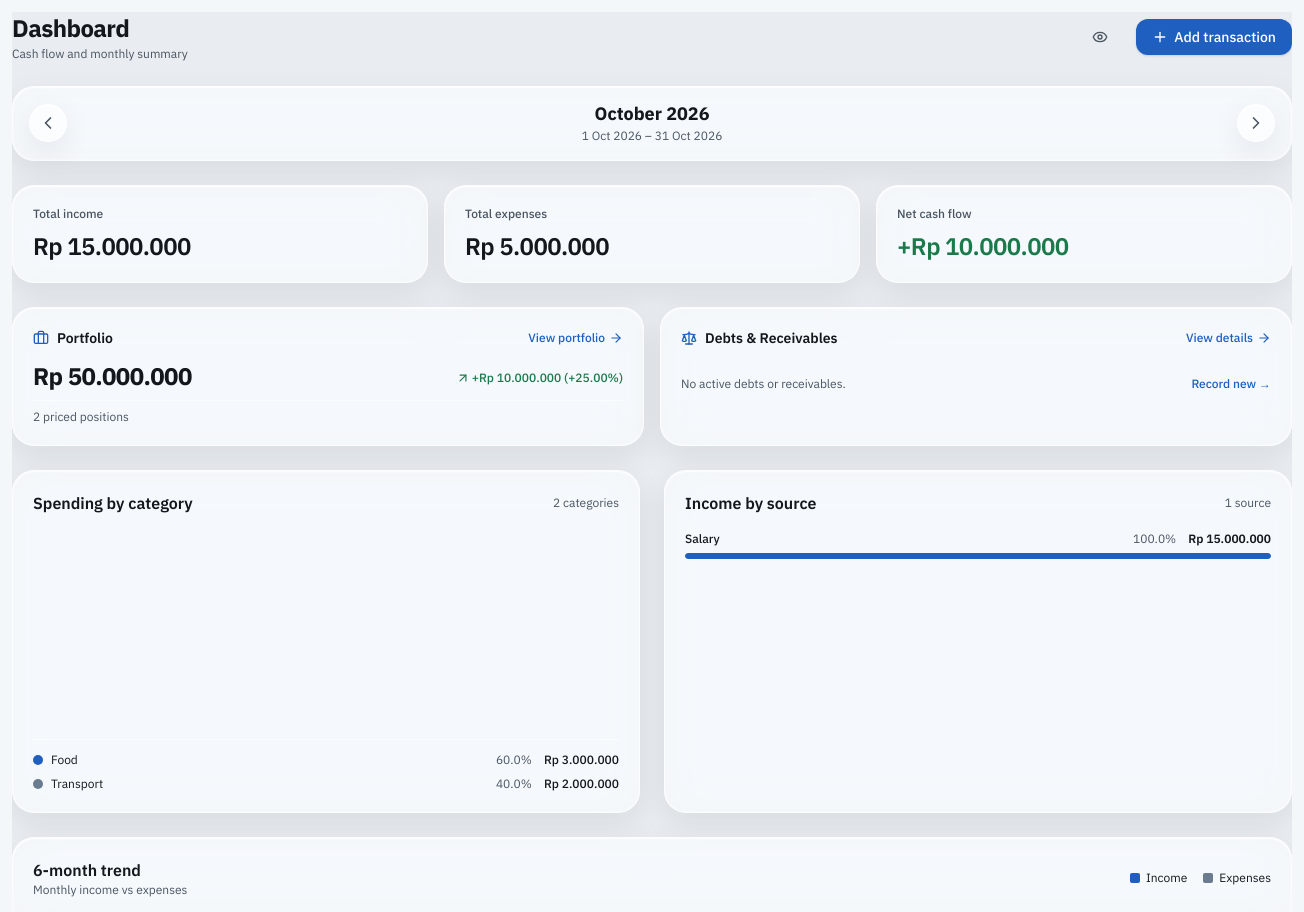
Test: DashboardView › toggles privacy mode and masks financial numbers
What coordinates should you click on to do the following:
click the button named "Hide balances"
I would click on:
 (1100, 37)
Its box is [1076, 21, 1124, 53].
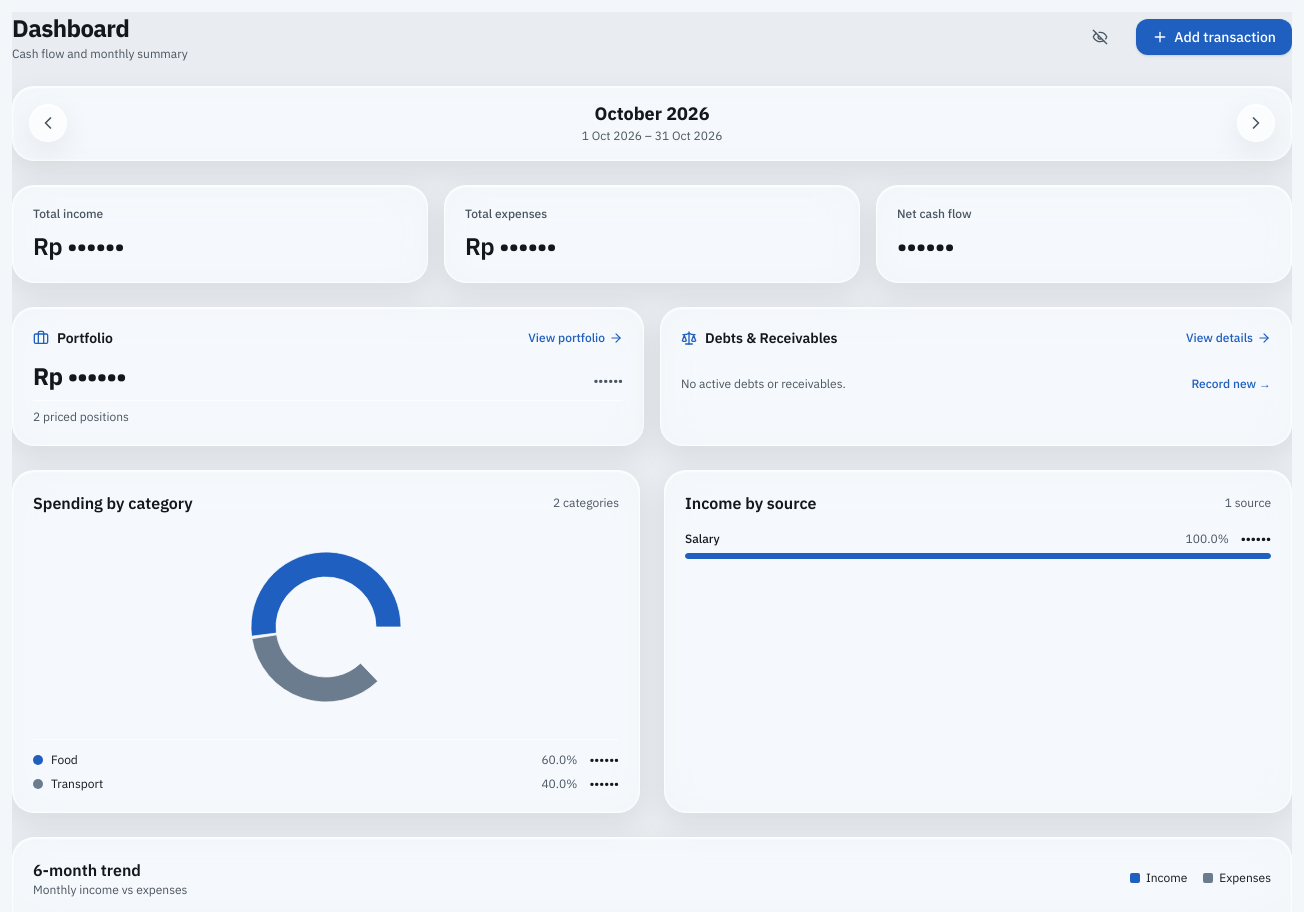
Check: the button named "Show balances" is shown, box [1076, 21, 1124, 53]
